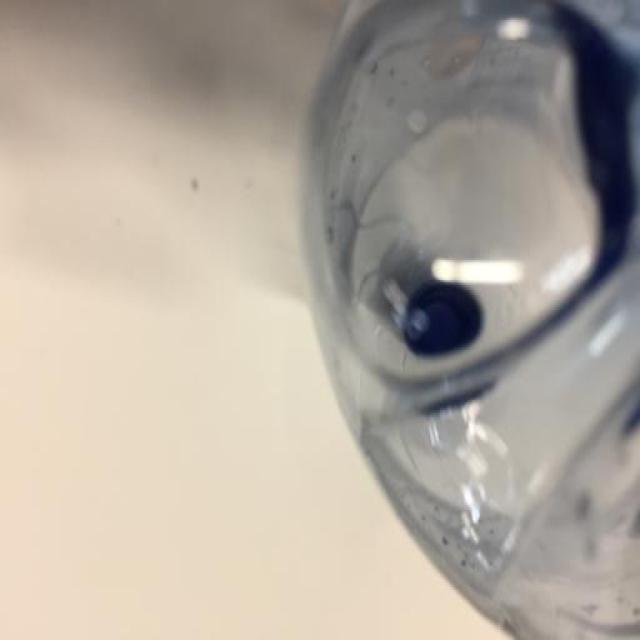Plastic: (298, 0, 640, 640)
